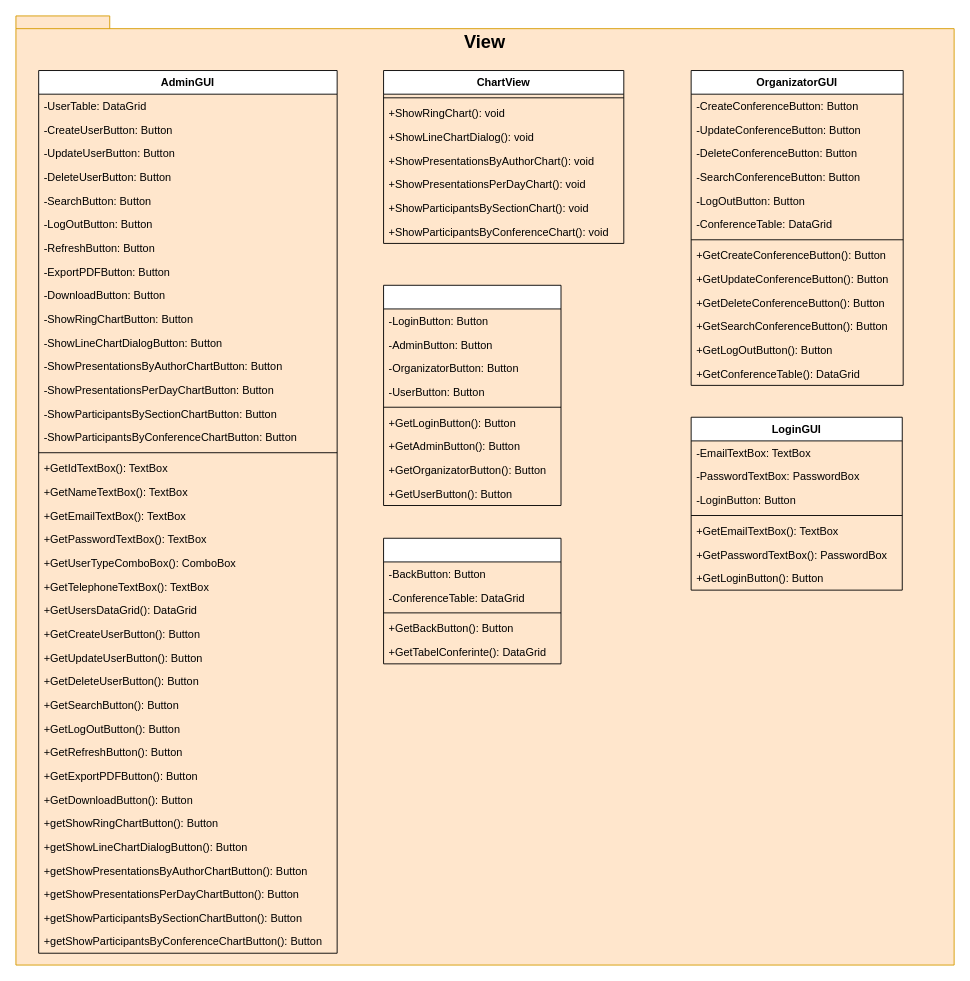
The diagram is 970 pixels wide and 981 high, and some of its shapes have lost their labels. Each missing label, with the box of its shape:
HomeGUI: (383, 284, 561, 506)
UtilizatorGUI: (383, 537, 561, 664)
